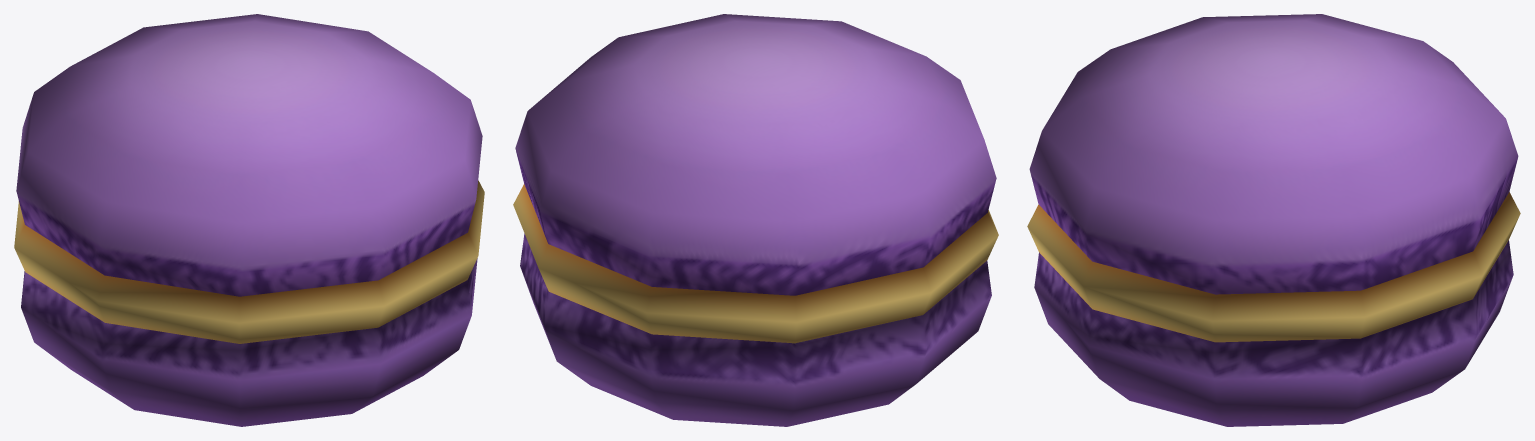
The model's file is 010-Macaron_02.FBX.
3 renders of one model, left to right at view 1: azimuth 30°, elevation 25°; view 2: azimuth 150°, elevation 25°; view 3: azimuth 270°, elevation 25°, orthographic.
Visible parts, largest first — view 1: 010-Macaron_02; view 2: 010-Macaron_02; view 3: 010-Macaron_02.
Part boxes in pixels (x1,y1,x2,y2): 010-Macaron_02: [14, 14, 484, 426]; 010-Macaron_02: [513, 14, 998, 426]; 010-Macaron_02: [1027, 14, 1520, 426].
Size of the model in its own units: 8.94 by 6.11 by 9.22.
